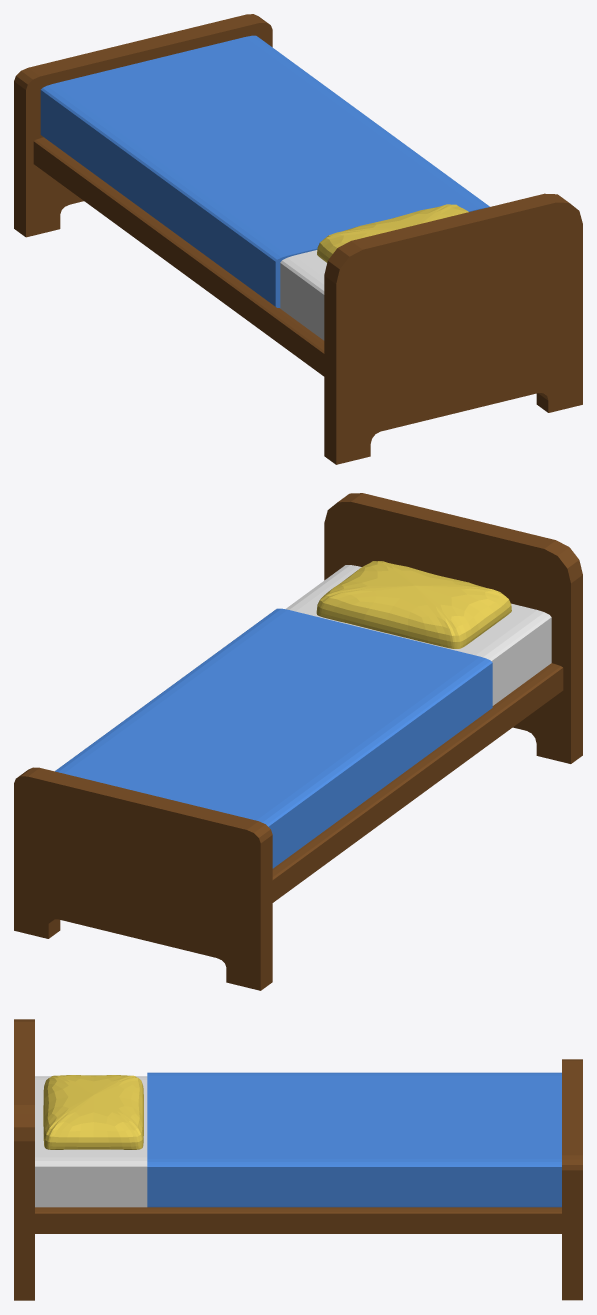
File: bed.fbx
3 views of the same model, one above another, from view 1: azimuth 30°, elevation 25°; view 2: azimuth 150°, elevation 25°; view 3: azimuth 270°, elevation 25° (orthographic). The views are drawn at different scales.
Parts seen in each view (by area): view 1: Cube.004, Cube.002, Cube.001, Cube.005, Cube, Cube.006; view 2: Cube.004, Cube.001, Cube.002, Cube.006, Cube.005, Cube; view 3: Cube.004, Cube.005, Cube, Cube.006, Cube.002, Cube.001.
Part boxes in pixels (left/top/right/bottom): Cube.004: left=40, top=35, right=489, bottom=307; Cube.002: left=324, top=193, right=582, bottom=464; Cube.001: left=14, top=14, right=272, bottom=237; Cube.005: left=33, top=137, right=324, bottom=376; Cube: left=280, top=250, right=326, bottom=340; Cube.006: left=317, top=204, right=468, bottom=262; Cube.004: left=55, top=608, right=492, bottom=868; Cube.001: left=14, top=767, right=272, bottom=990; Cube.002: left=324, top=493, right=582, bottom=763; Cube.006: left=316, top=561, right=511, bottom=648; Cube.005: left=272, top=663, right=563, bottom=902; Cube: left=285, top=565, right=551, bottom=705; Cube.004: left=147, top=1072, right=561, bottom=1207; Cube.005: left=35, top=1207, right=561, bottom=1233; Cube: left=35, top=1076, right=147, bottom=1207; Cube.006: left=43, top=1075, right=143, bottom=1149; Cube.002: left=14, top=1019, right=34, bottom=1300; Cube.001: left=562, top=1059, right=582, bottom=1300.
Bounding box in the file's own units: 334 × 270 × 755.
